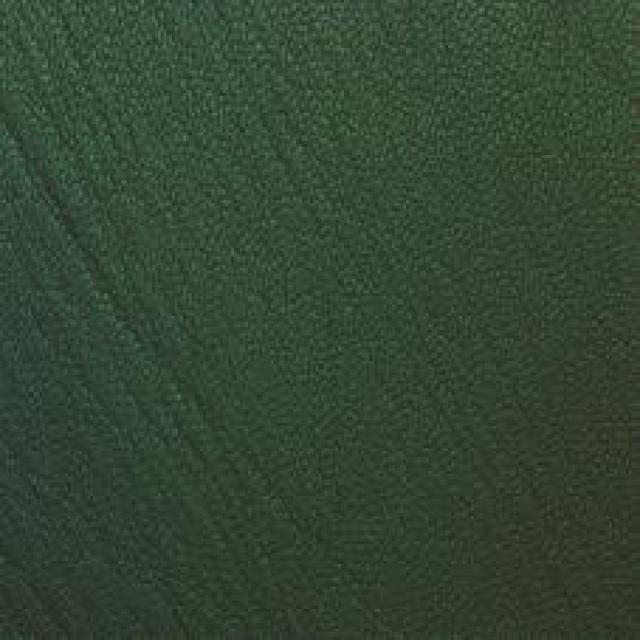Growth Marks: (21, 117, 169, 402), (173, 414, 312, 616)
